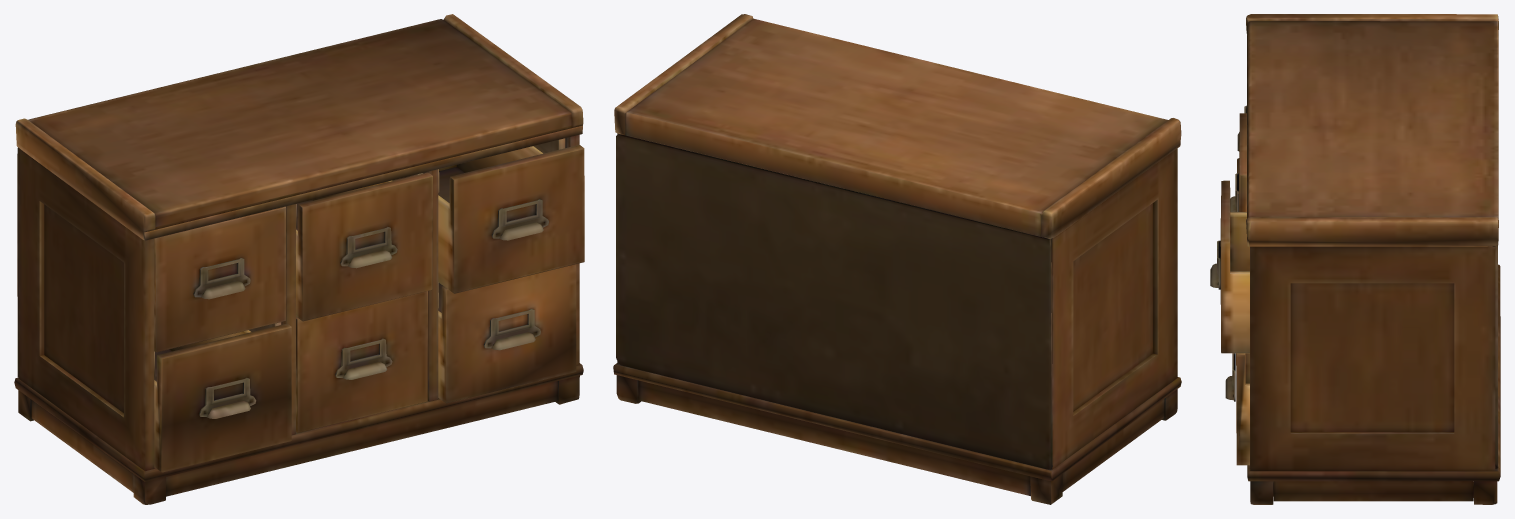
Rendered from ph-vintage_wooden_drawer_01.glb.
3 views of the same model, side by side, from view 1: azimuth 30°, elevation 25°; view 2: azimuth 150°, elevation 25°; view 3: azimuth 270°, elevation 25° (orthographic). The views are drawn at different scales.
Parts seen in each view (by area): view 1: vintage_wooden_drawer_01_body; view 2: vintage_wooden_drawer_01_body; view 3: vintage_wooden_drawer_01_body.
Part boxes in pixels (left/top/right/bottom): vintage_wooden_drawer_01_body: left=14, top=14, right=584, bottom=504; vintage_wooden_drawer_01_body: left=613, top=14, right=1181, bottom=504; vintage_wooden_drawer_01_body: left=1210, top=14, right=1500, bottom=504.
Size of the model in its own units: 1.71 by 1.09 by 1.01.
Materials: 1 (1 with a texture image).
